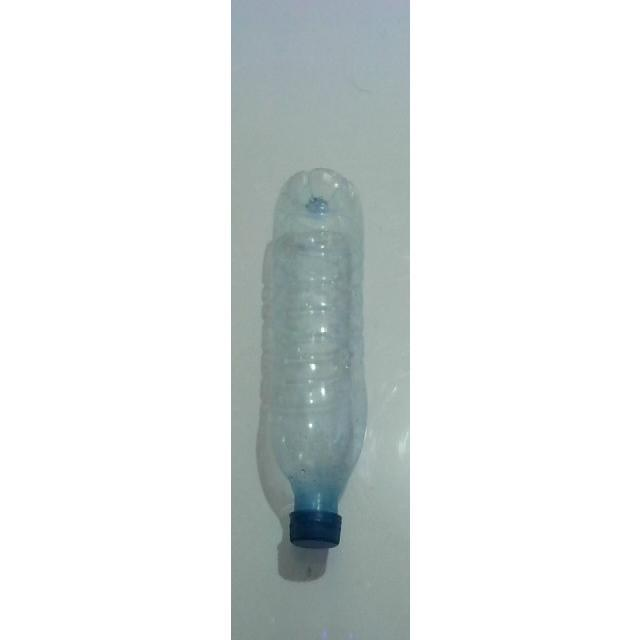plastic_bottle: (264, 167, 370, 548)
